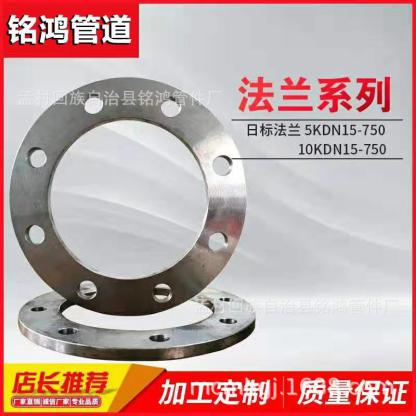FOD: (7, 72, 249, 319), (12, 274, 258, 363)
